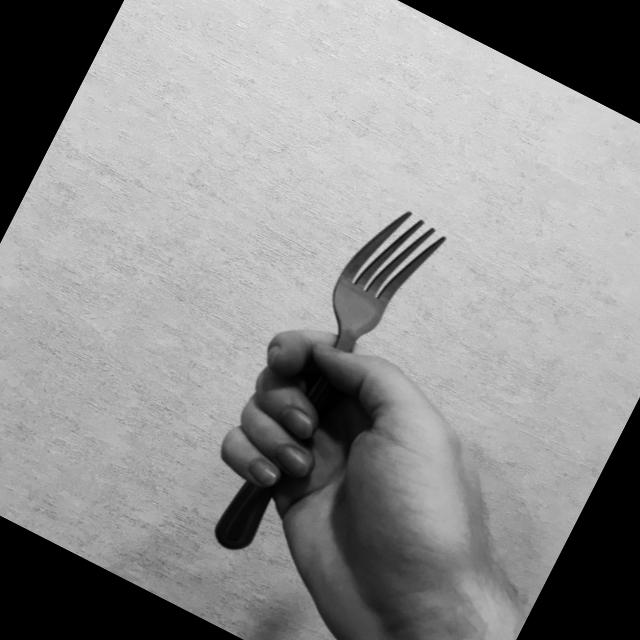fork: (200, 192, 458, 578)
